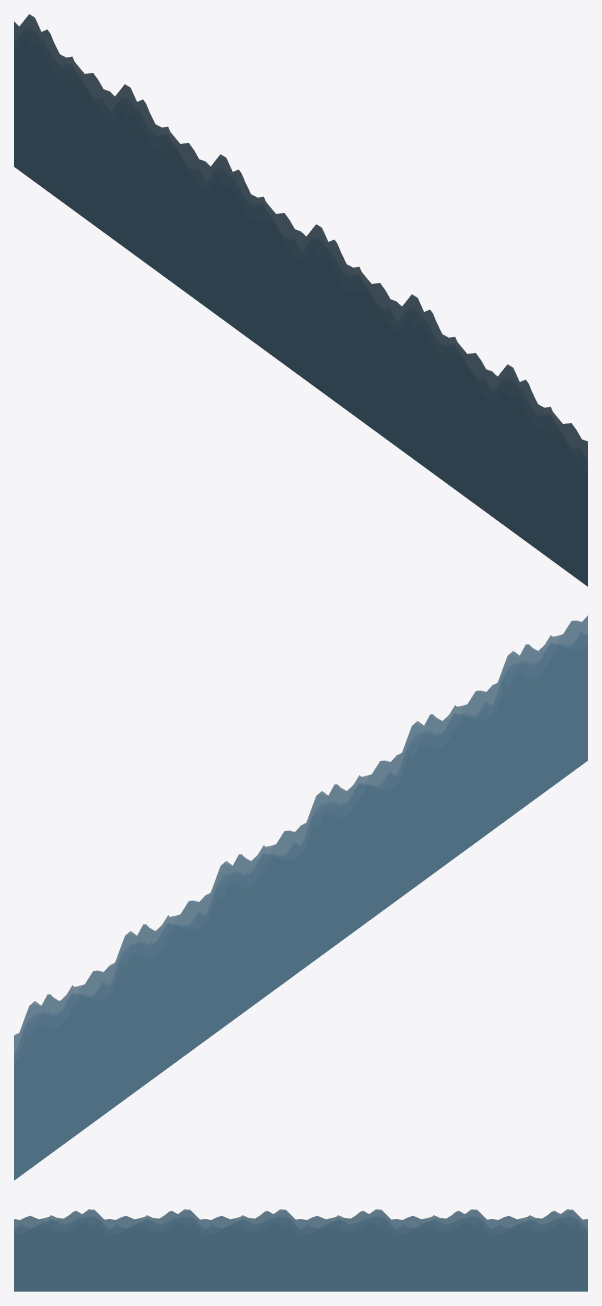
File: BgMD_Dis_Mount_A.FBX
3 views of the same model, one above another, from view 1: azimuth 30°, elevation 25°; view 2: azimuth 150°, elevation 25°; view 3: azimuth 270°, elevation 25° (orthographic). The views are drawn at different scales.
Parts seen in each view (by area): view 1: BgMD_Dis_Mount_A; view 2: BgMD_Dis_Mount_A; view 3: BgMD_Dis_Mount_A.
Boxes of the visible parts, box(x1,y1,x2,y2) form: BgMD_Dis_Mount_A: box(14, 14, 587, 586); BgMD_Dis_Mount_A: box(14, 615, 587, 1180); BgMD_Dis_Mount_A: box(14, 1209, 587, 1291).
Bounding box in the file's own units: 0.000381 × 1581 × 10000.
